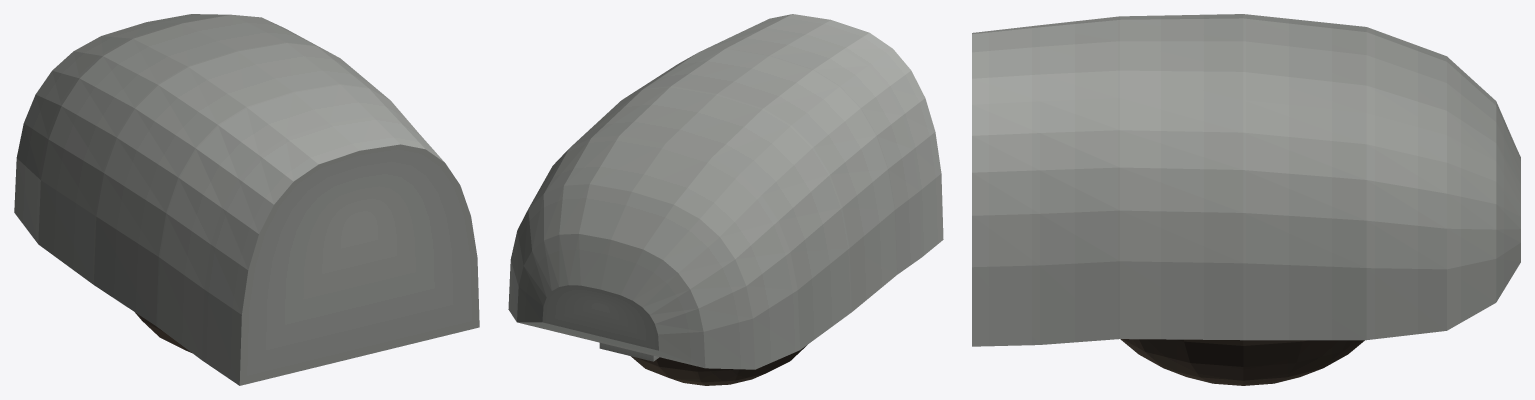
The model's file is streetlight_whov20.obj.
The picture shows the model from 3 angles, left to right: view 1: azimuth 30°, elevation 25°; view 2: azimuth 150°, elevation 25°; view 3: azimuth 270°, elevation 25°; orthographic projection. The views are drawn at different scales.
Visible parts, largest first — view 1: fixture; view 2: fixture; view 3: fixture.
Boxes of the visible parts, box(x1,y1,x2,y2) form: fixture: box(14, 14, 479, 385); fixture: box(508, 14, 943, 385); fixture: box(972, 14, 1520, 385).
Bounding box in the file's own units: 0.375 × 0.3687 × 0.5562.
